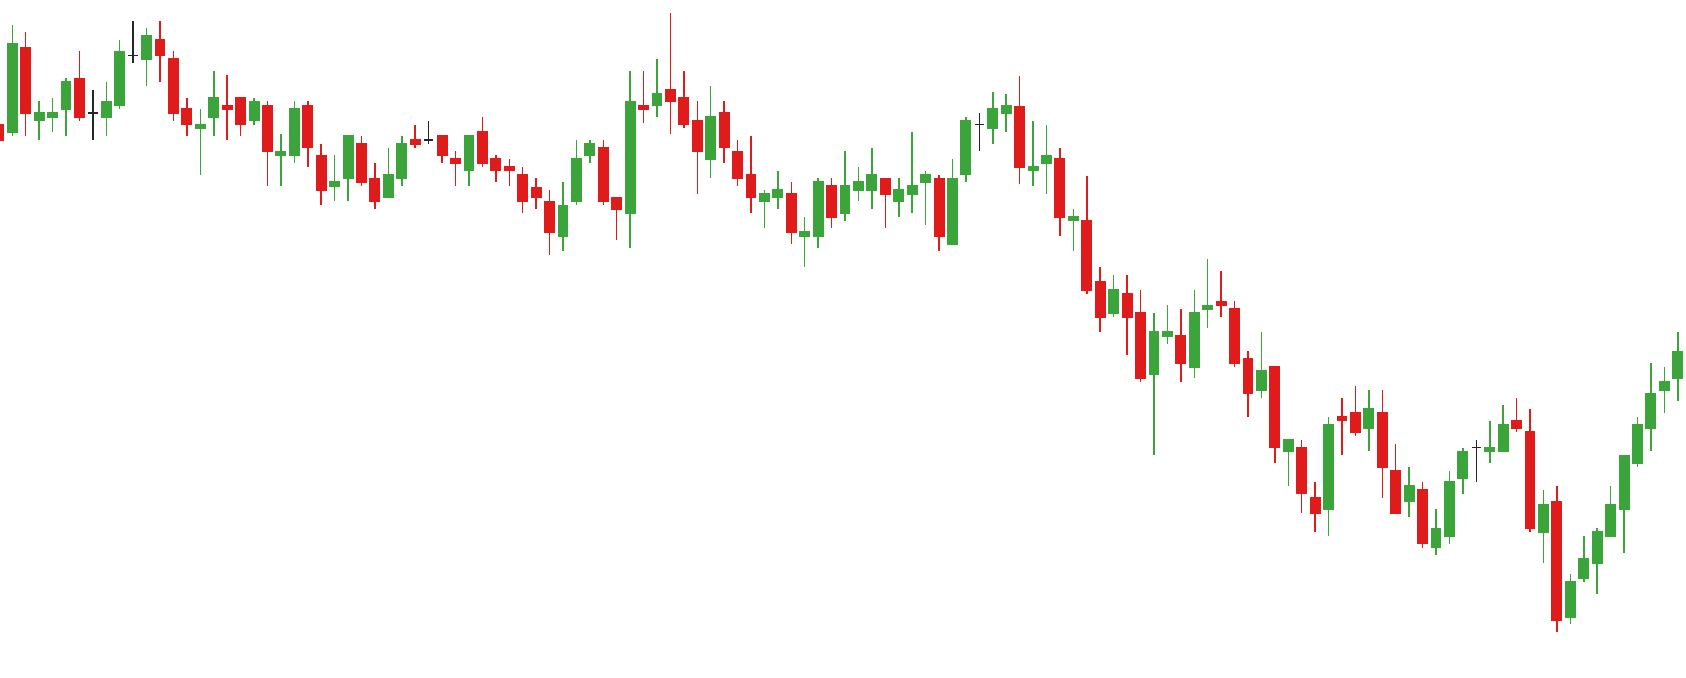buy: (1308, 436, 1442, 564)
sell: (908, 75, 1031, 206)
